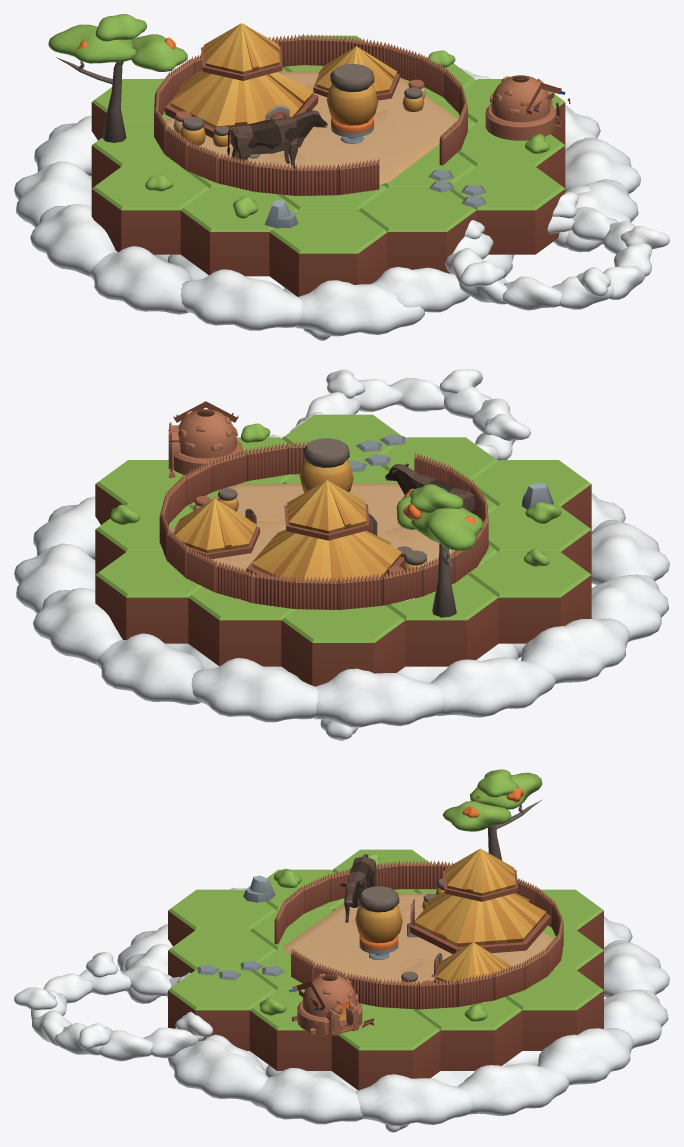
Rendered from SkyWorld.fbx.
3 views of the same model, one above another, from view 1: azimuth 30°, elevation 25°; view 2: azimuth 150°, elevation 25°; view 3: azimuth 270°, elevation 25° (orthographic). The views are drawn at different scales.
Parts seen in each view (by area): view 1: Sky_Board, Sky_Clouds, Urugo_Fence, Nkuba_Hut, Nkuba_Yard, Umuko_Tree, Nkuba_Forge, Umuko_Jar, Sky_Bull, Sky_Deco, Milk_Vessels; view 2: Sky_Board, Sky_Clouds, Urugo_Fence, Nkuba_Hut, Nkuba_Yard, Umuko_Tree, Nkuba_Forge, Sky_Deco, Umuko_Jar, Sky_Bull, Milk_Vessels; view 3: Sky_Board, Sky_Clouds, Urugo_Fence, Nkuba_Hut, Nkuba_Yard, Umuko_Tree, Nkuba_Forge, Umuko_Jar, Sky_Deco, Sky_Bull.
Boxes of the visible parts, <box> form: Sky_Board: <box>91,35,565,296</box>; Sky_Clouds: <box>14,68,669,340</box>; Urugo_Fence: <box>154,34,467,195</box>; Nkuba_Hut: <box>165,23,399,137</box>; Nkuba_Yard: <box>153,71,458,184</box>; Umuko_Tree: <box>48,14,187,142</box>; Nkuba_Forge: <box>485,75,570,140</box>; Umuko_Jar: <box>326,63,378,144</box>; Sky_Bull: <box>227,109,327,168</box>; Sky_Deco: <box>145,50,549,228</box>; Milk_Vessels: <box>173,79,425,146</box>; Sky_Board: <box>95,414,591,686</box>; Sky_Clouds: <box>14,369,669,740</box>; Urugo_Fence: <box>159,441,488,609</box>; Nkuba_Hut: <box>173,480,404,581</box>; Nkuba_Yard: <box>170,483,454,601</box>; Umuko_Tree: <box>396,484,483,617</box>; Nkuba_Forge: <box>168,401,242,477</box>; Sky_Deco: <box>110,423,561,566</box>; Umuko_Jar: <box>299,438,353,492</box>; Sky_Bull: <box>385,463,475,529</box>; Milk_Vessels: <box>193,488,426,574</box>; Sky_Board: <box>168,849,603,1090</box>; Sky_Clouds: <box>14,887,669,1132</box>; Urugo_Fence: <box>274,860,563,1009</box>; Nkuba_Hut: <box>407,848,550,983</box>; Nkuba_Yard: <box>284,893,563,1002</box>; Umuko_Tree: <box>442,769,542,860</box>; Nkuba_Forge: <box>289,974,374,1035</box>; Umuko_Jar: <box>355,886,402,959</box>; Sky_Deco: <box>197,853,487,1021</box>; Sky_Bull: <box>340,854,376,922</box>.
Size of the model in its own units: 24.61 by 13.7 by 27.79.
Materials: 6 (3 with a texture image).
